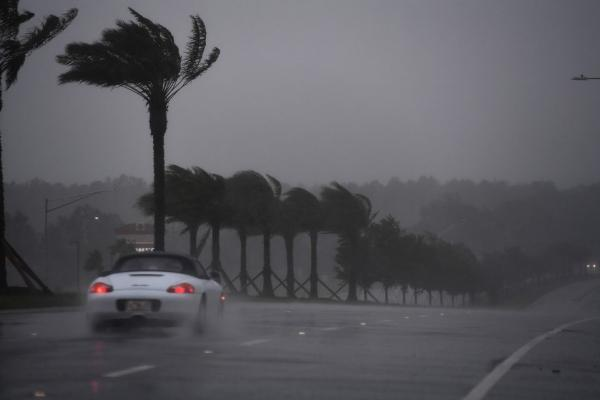car: (84, 249, 228, 340)
